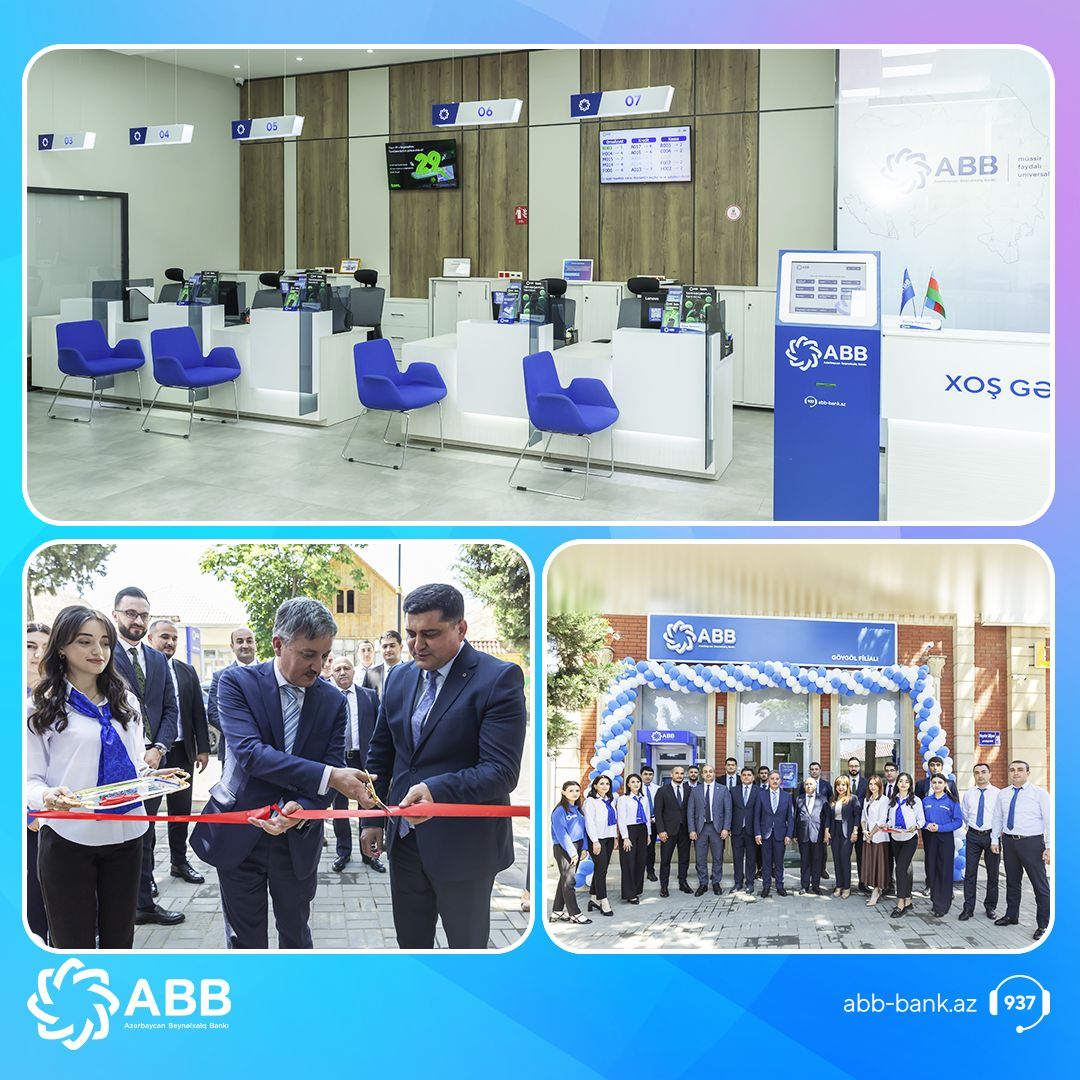ABB: (25, 957, 122, 1053), (878, 145, 933, 195), (783, 335, 823, 373), (662, 619, 698, 656)
